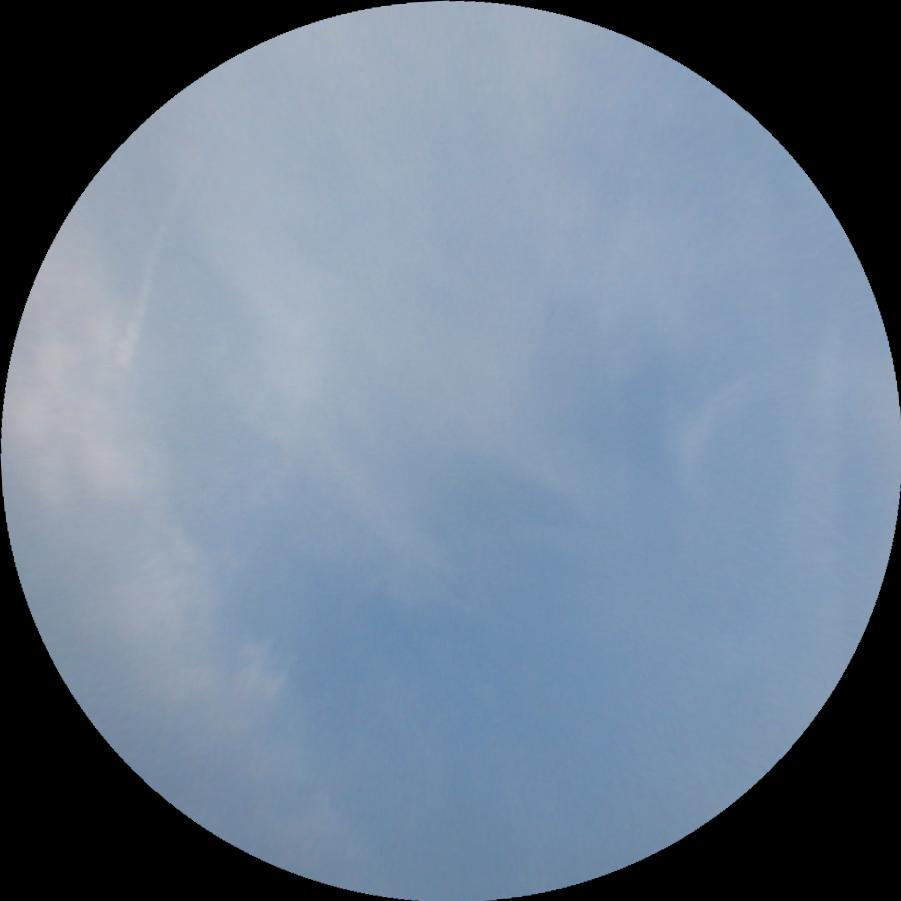contrail veryold: (111, 138, 207, 359)
